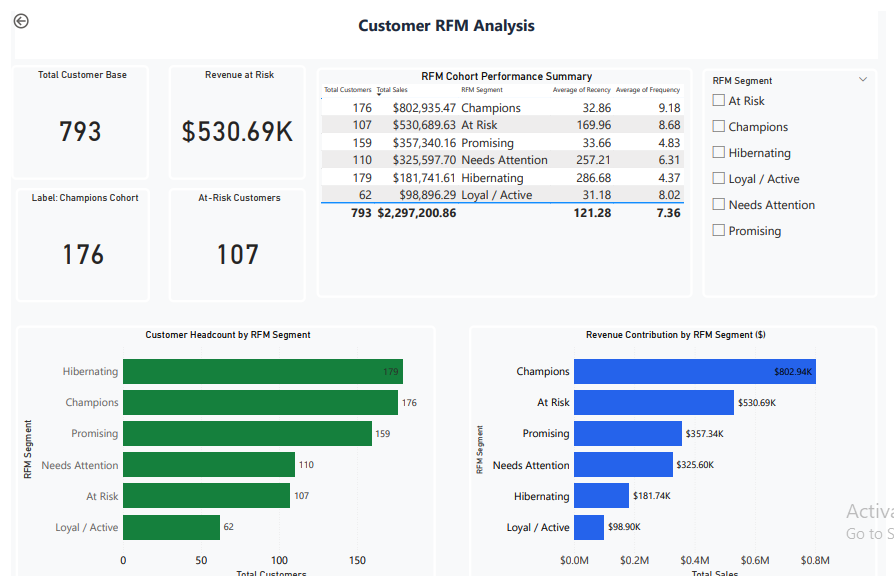

Layout of this report page (visuals, bound fields, positions):
{"tool":"powerbi","page":{"name":"Page 2","canvas":[1750,1150],"ordinal":1},"visuals":[{"type":"textbox","box":[9.2,0,1724.7,96.5],"z":0},{"type":"card","title":"Total Customer Base ","fields":{"Values":["Cleaned_Superstore_for_PowerBI.Total Customers"]},"box":[0,107.9,275.6,229.7],"z":1000},{"type":"card","title":"Label: Champions Cohort ","fields":{"Values":["Cleaned_Superstore_for_PowerBI.Champion Customers"]},"box":[9.2,353.7,268.7,229.7],"z":2000},{"type":"card","title":" At-Risk Customers","fields":{"Values":["Cleaned_Superstore_for_PowerBI.At Risk Customers"]},"box":[314.6,353.7,275.6,229.7],"z":3000},{"type":"card","title":"Revenue at Risk","fields":{"Values":["Cleaned_Superstore_for_PowerBI.At Risk Revenue"]},"box":[314.6,107.9,275.6,229.7],"z":4000},{"type":"clusteredBarChart","title":"Customer Headcount by RFM Segment","fields":{"Y":["Cleaned_Superstore_for_PowerBI.Total Customers"],"Category":["Cleaned_Superstore_for_PowerBI.RFM Segment"]},"box":[9.2,629.3,840.6,521.3],"z":5000},{"type":"clusteredBarChart","title":"Revenue Contribution by RFM Segment ($)","fields":{"Y":["Cleaned_Superstore_for_PowerBI.Total Sales"],"Category":["Cleaned_Superstore_for_PowerBI.RFM Segment"]},"box":[916.3,629.3,817.6,521.3],"z":6000},{"type":"tableEx","title":"RFM Cohort Performance Summary","fields":{"Values":["Cleaned_Superstore_for_PowerBI.Total Customers","Cleaned_Superstore_for_PowerBI.Total Sales","Cleaned_Superstore_for_PowerBI.RFM Segment","Avg(Cleaned_Superstore_for_PowerBI.Recency)","Avg(Cleaned_Superstore_for_PowerBI.Frequency)"]},"box":[610.9,112.5,753.3,461.6],"z":7000},{"type":"slicer","fields":{"Values":["Cleaned_Superstore_for_PowerBI.RFM Segment"]},"box":[1382.5,114.8,351.4,459.3],"z":8000},{"type":"actionButton","box":[0,0,100,40],"z":9000}]}

Visuals, with their boxes in screenshot pixels (x1, y1, x2, y2), scaled from the page's 1750x1150 canvas onto the 894x576 screenshot:
textbox: 5, 0, 886, 48
"Total Customer Base " card: 0, 54, 141, 169
"Label: Champions Cohort " card: 5, 177, 142, 292
" At-Risk Customers" card: 161, 177, 302, 292
"Revenue at Risk" card: 161, 54, 302, 169
"Customer Headcount by RFM Segment" clusteredBarChart: 5, 315, 434, 575
"Revenue Contribution by RFM Segment ($)" clusteredBarChart: 468, 315, 886, 575
"RFM Cohort Performance Summary" tableEx: 312, 56, 697, 288
slicer - Cleaned_Superstore_for_PowerBI.RFM Segment: 706, 57, 886, 288
actionButton: 0, 0, 51, 20
